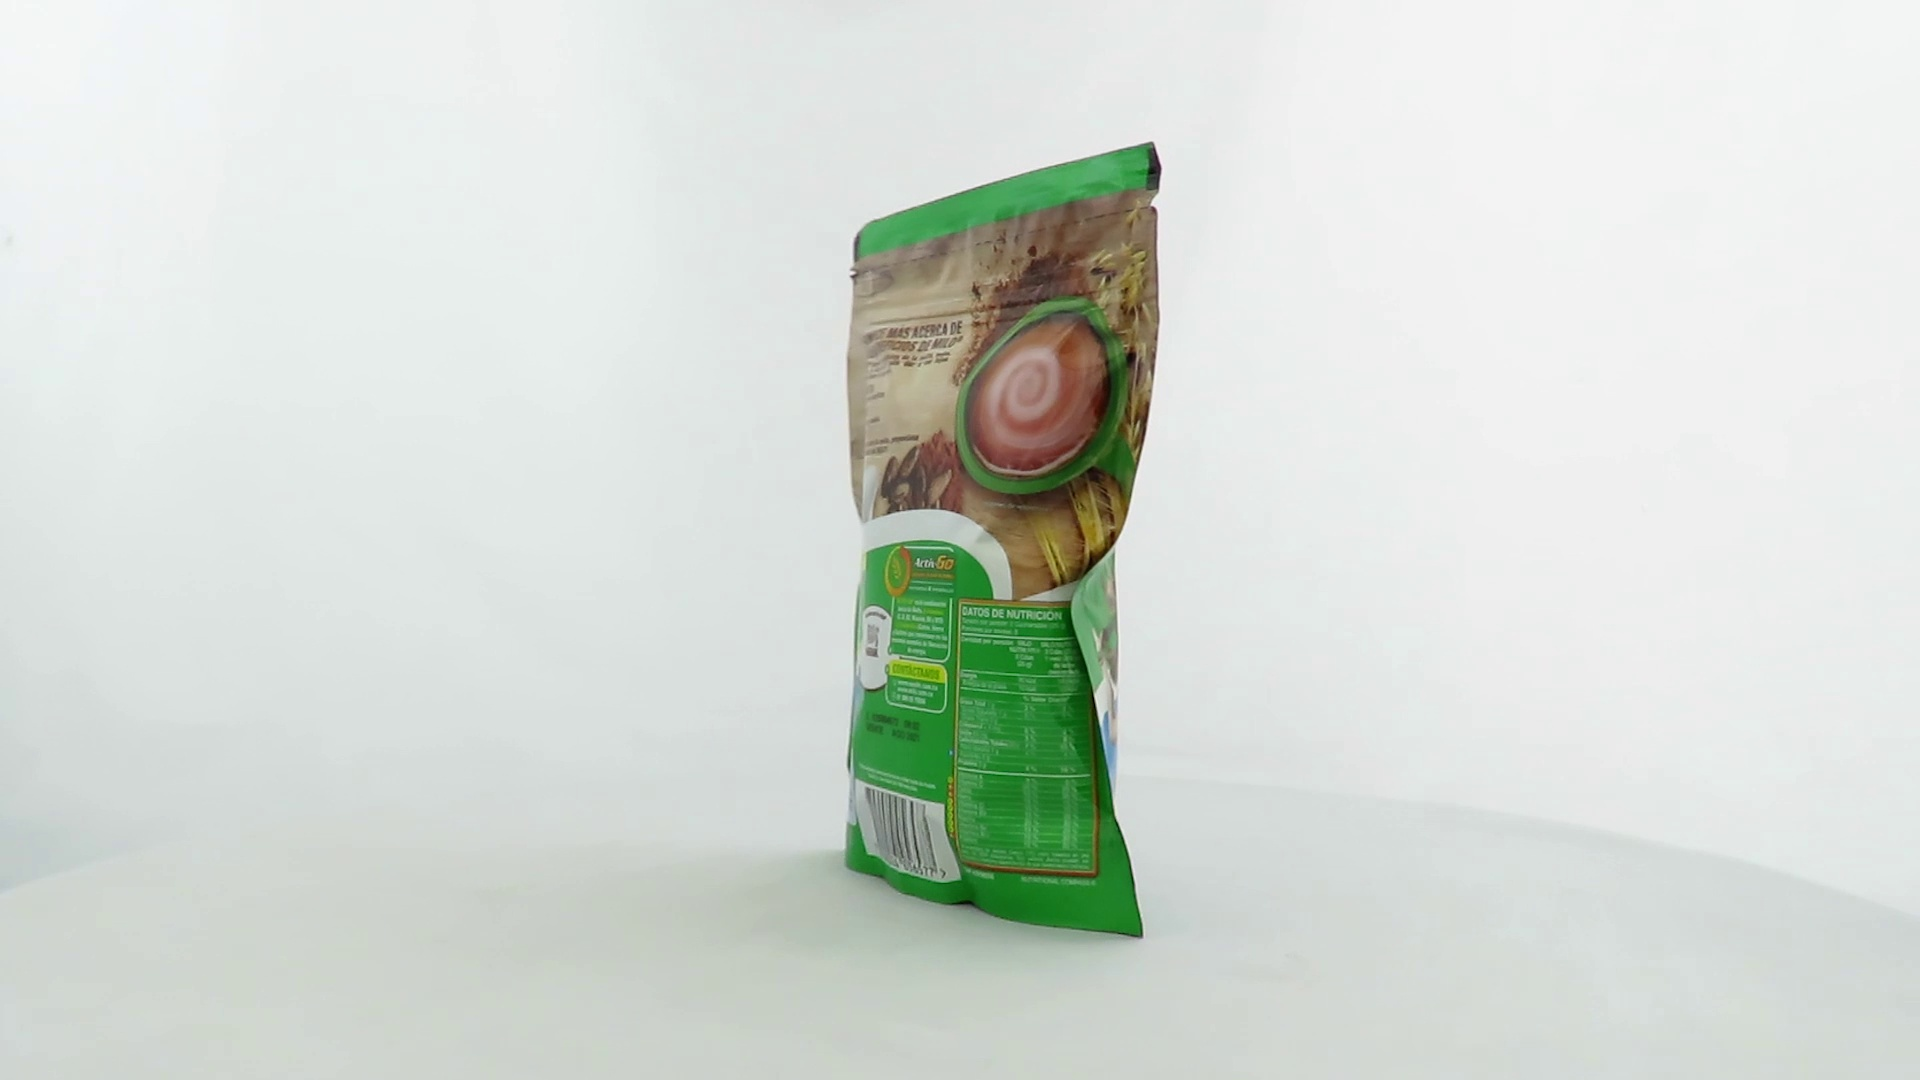COL0170205DYP20000: (839, 136, 1168, 945)
